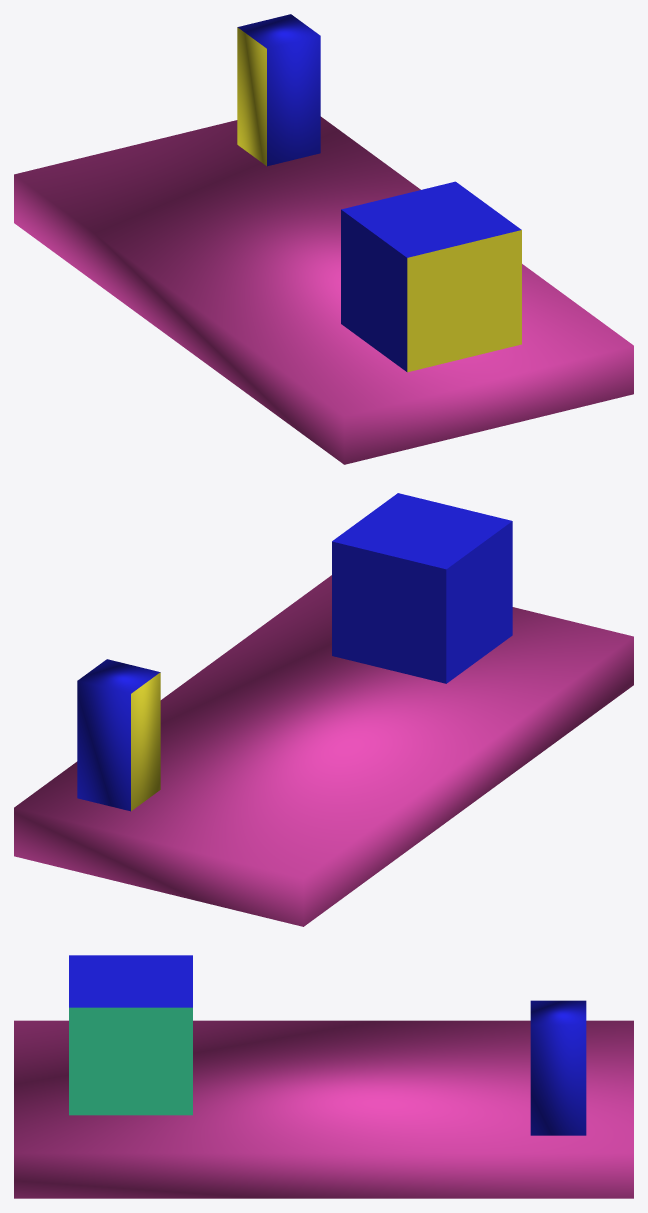
3 views of the same model, one above another, from view 1: azimuth 30°, elevation 25°; view 2: azimuth 150°, elevation 25°; view 3: azimuth 270°, elevation 25° (orthographic). The views are drawn at different scales.
Parts seen in each view (by area): view 1: Cube; view 2: Cube; view 3: Cube.
Boxes of the visible parts, x1,y1,x2,y2 form: Cube: [14, 14, 633, 464]; Cube: [14, 493, 633, 926]; Cube: [14, 955, 633, 1198].
Bounding box in the file's own units: 5.05 × 2.77 × 9.99.
